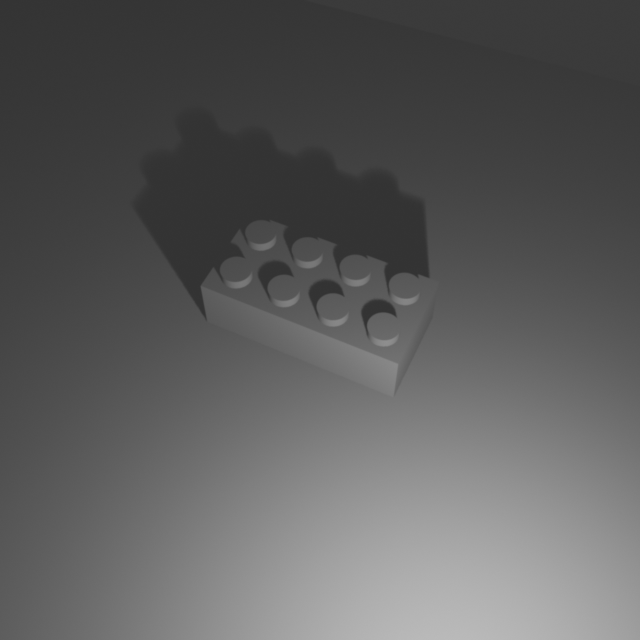lego_2x4: (199, 206, 440, 398)
